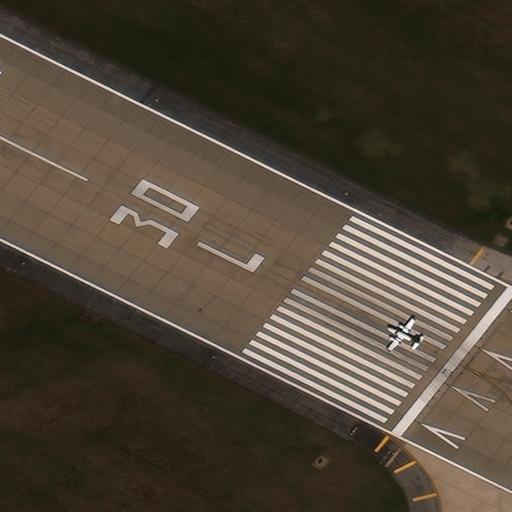Small Civil Transport: (387, 318, 419, 348)
